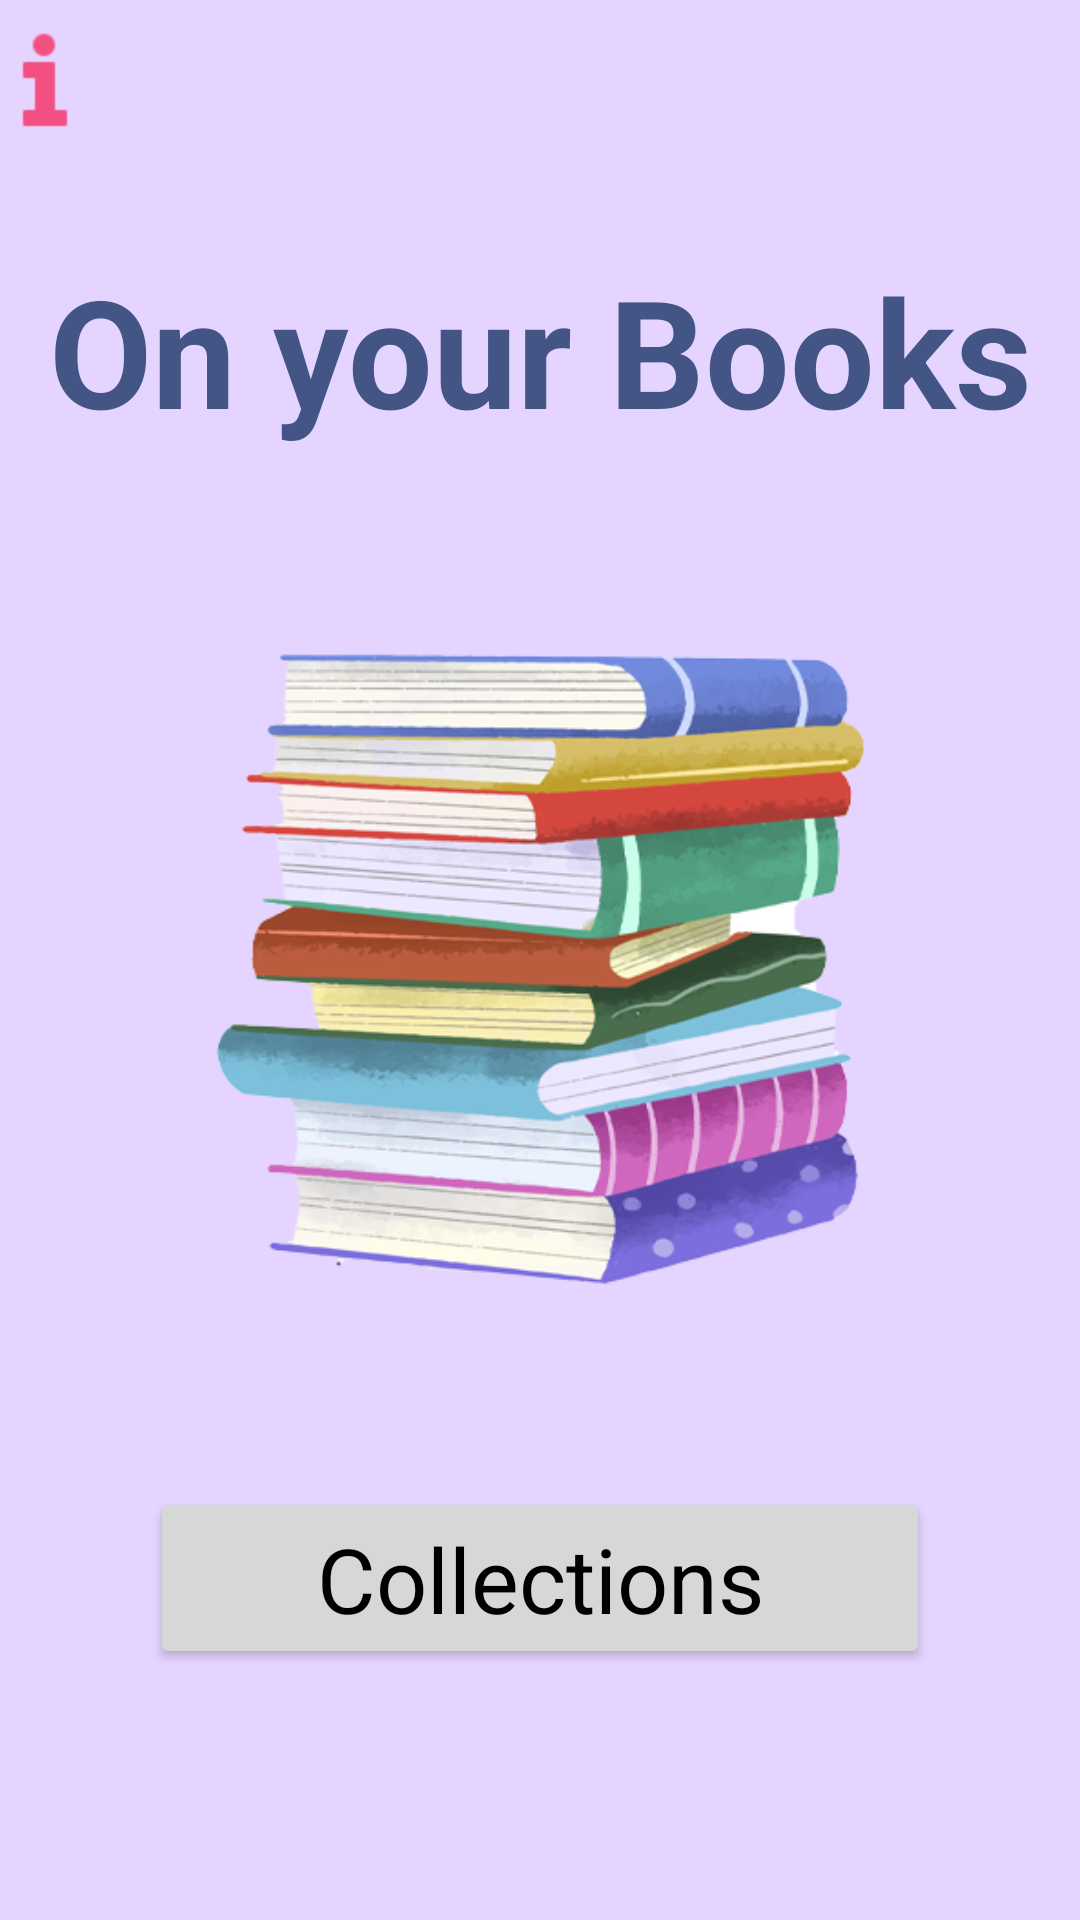

Icons on this 1080px×1920px Android screen, each with its box as detection(x1, y1, x2, y2):
info: detection(22, 33, 68, 127)
